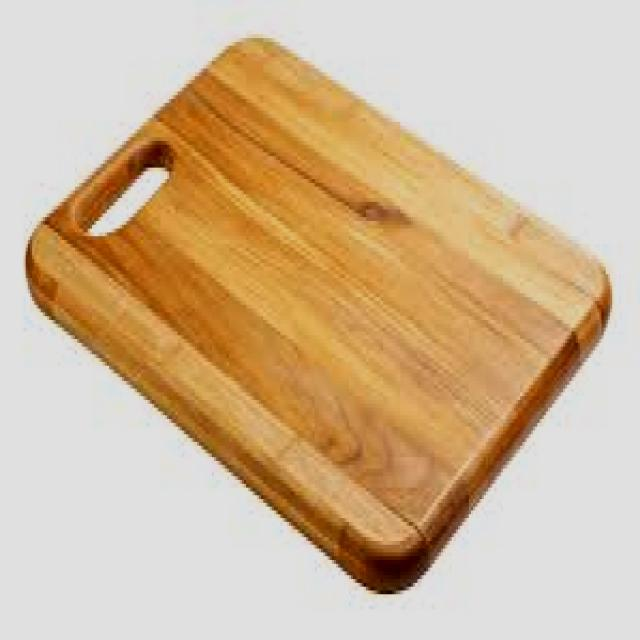Talenan: (19, 25, 629, 604)
